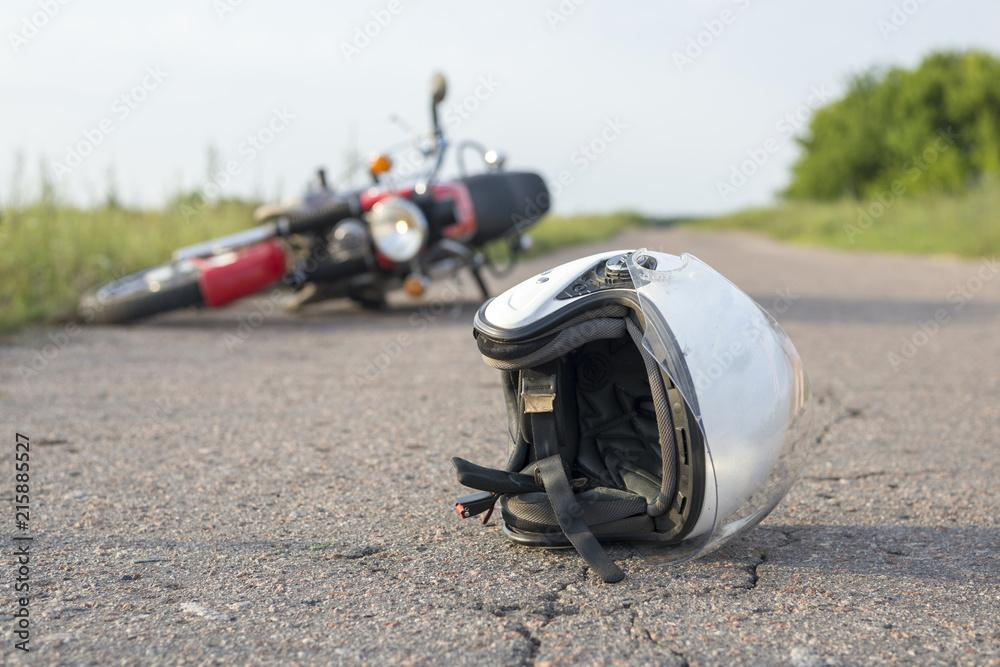helmet: (448, 246, 816, 587)
